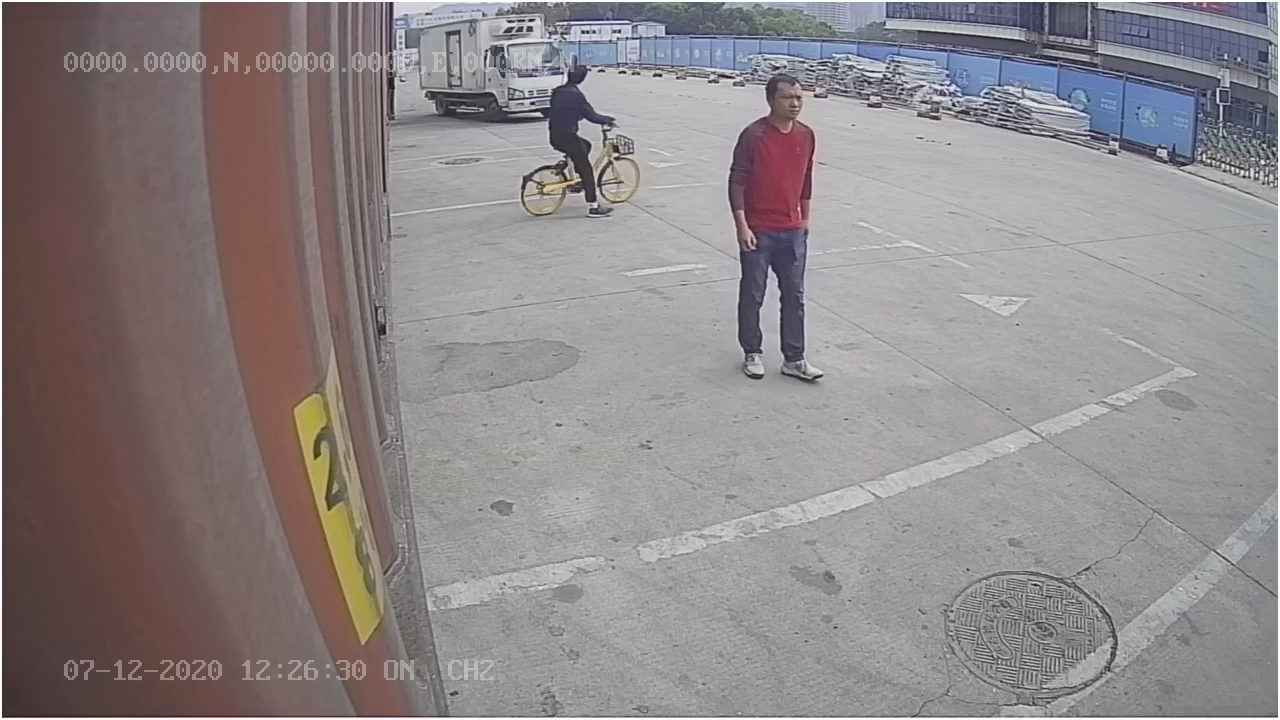person: (723, 73, 838, 388)
